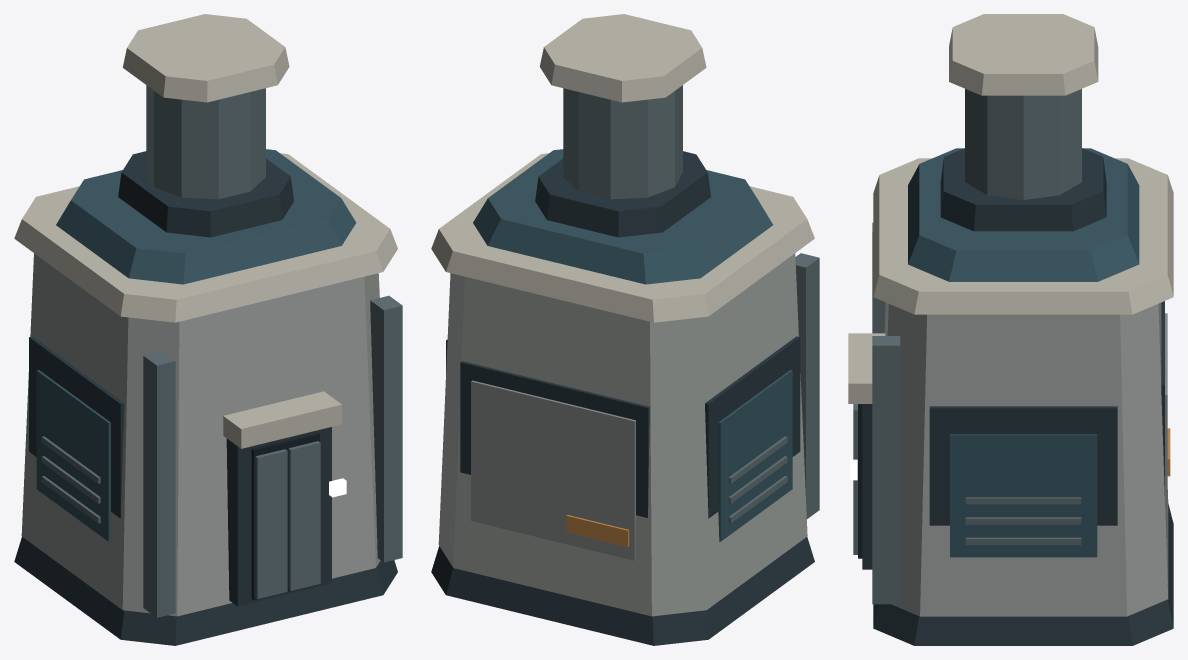
The model's file is hero_forge_t3.glb.
3 views of the same model, side by side, from view 1: azimuth 30°, elevation 25°; view 2: azimuth 150°, elevation 25°; view 3: azimuth 270°, elevation 25° (orthographic). The views are drawn at different scales.
Parts seen in each view (by area): view 1: body; view 2: body; view 3: body.
Boxes of the visible parts, x1,y1,x2,y2 form: body: (14,14,402,645); body: (431,14,819,645); body: (848,14,1173,645).
Size of the model in its own units: 1.76 by 3.15 by 1.75.
